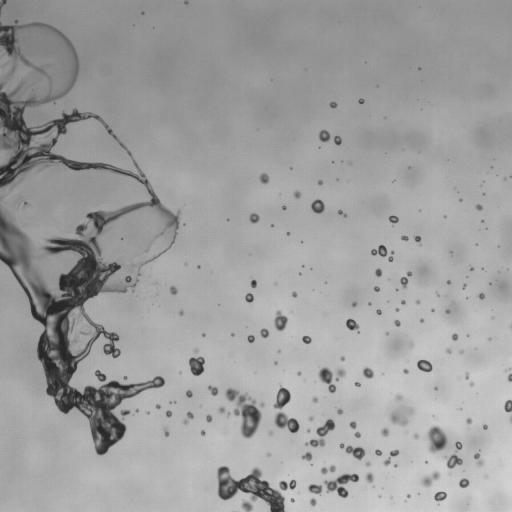droplet: (217, 387, 265, 438), (317, 366, 346, 393), (423, 425, 447, 453), (188, 356, 205, 375), (389, 411, 408, 426), (274, 310, 287, 331), (345, 318, 359, 333), (371, 244, 387, 257), (417, 359, 433, 372), (310, 199, 324, 213), (434, 491, 447, 505), (318, 129, 330, 142), (94, 369, 106, 382), (182, 411, 193, 425), (362, 366, 373, 378), (284, 195, 295, 206), (1, 199, 12, 210), (100, 202, 111, 213), (12, 217, 23, 228), (66, 229, 77, 240), (373, 255, 384, 266), (398, 287, 409, 298), (83, 297, 94, 308), (434, 299, 445, 310), (384, 310, 395, 321), (32, 321, 43, 332), (33, 360, 44, 371), (37, 377, 48, 388), (67, 377, 78, 388), (119, 398, 130, 409), (183, 398, 194, 409), (225, 399, 236, 410), (308, 403, 319, 414), (281, 404, 292, 415), (396, 406, 407, 417), (173, 408, 184, 419), (259, 412, 270, 423), (193, 413, 204, 424), (79, 417, 90, 428), (406, 421, 417, 432), (418, 424, 429, 435), (85, 439, 96, 450), (443, 443, 454, 454), (363, 449, 374, 460), (370, 462, 381, 473), (268, 479, 279, 490), (296, 480, 307, 491), (430, 480, 441, 491), (280, 488, 291, 499), (234, 489, 245, 500), (259, 172, 269, 184), (388, 215, 398, 227), (244, 292, 254, 304), (208, 385, 218, 396), (301, 451, 312, 461), (365, 471, 374, 483), (249, 213, 259, 223), (459, 478, 469, 488), (413, 235, 422, 246), (260, 502, 271, 511), (282, 502, 293, 511), (260, 328, 269, 338), (380, 427, 389, 437), (302, 335, 311, 344), (159, 197, 168, 206), (373, 276, 382, 285), (357, 299, 366, 308), (435, 306, 444, 315), (267, 324, 276, 333), (97, 335, 106, 344), (449, 340, 458, 349), (327, 363, 336, 372), (311, 371, 320, 380), (359, 375, 368, 384), (92, 379, 101, 388), (236, 385, 245, 394), (217, 387, 226, 396), (111, 407, 120, 416), (211, 411, 220, 420), (234, 414, 243, 423), (331, 414, 340, 423), (119, 415, 128, 424), (472, 419, 481, 428), (201, 421, 210, 430), (387, 422, 396, 431), (439, 423, 448, 432), (422, 438, 431, 447), (423, 467, 432, 476), (328, 471, 337, 480), (343, 480, 352, 489), (242, 491, 251, 500), (282, 500, 291, 509), (333, 135, 341, 145), (169, 285, 177, 295), (293, 190, 301, 199), (374, 268, 382, 277), (163, 426, 169, 437), (395, 393, 403, 401), (247, 334, 254, 343), (334, 407, 343, 414), (329, 101, 337, 108), (475, 204, 483, 211), (451, 333, 458, 341), (349, 421, 356, 429), (0, 44, 5, 55), (0, 67, 5, 78), (0, 155, 5, 166), (466, 417, 472, 426), (310, 497, 316, 506), (477, 292, 484, 299), (312, 396, 319, 403), (165, 410, 172, 417), (354, 431, 361, 438), (76, 72, 83, 79), (65, 108, 72, 115), (327, 137, 334, 144), (79, 168, 86, 175), (110, 171, 117, 178), (267, 175, 274, 182), (3, 183, 10, 190), (138, 183, 145, 190), (156, 193, 163, 200), (126, 198, 133, 205), (89, 205, 96, 212), (177, 216, 184, 223), (73, 233, 80, 240), (407, 235, 414, 242), (140, 265, 147, 272), (247, 286, 254, 293), (96, 291, 103, 298), (393, 312, 400, 319), (104, 325, 111, 332), (254, 333, 261, 340), (113, 340, 120, 347), (31, 341, 38, 348), (451, 347, 458, 354), (31, 349, 38, 356), (319, 361, 326, 368), (338, 361, 345, 368), (313, 367, 320, 374), (314, 375, 321, 382), (118, 378, 125, 385), (230, 383, 237, 390), (77, 386, 84, 393), (47, 395, 54, 402), (51, 404, 58, 411), (168, 404, 175, 411), (70, 406, 77, 413), (158, 407, 165, 414), (406, 414, 413, 421), (318, 419, 325, 426), (431, 419, 438, 426), (271, 423, 278, 430), (424, 423, 431, 430), (281, 425, 288, 432), (374, 428, 381, 435), (326, 429, 333, 436), (252, 430, 259, 437), (122, 431, 129, 438), (312, 433, 319, 440), (242, 436, 249, 443), (115, 439, 122, 446), (107, 445, 114, 452), (307, 445, 314, 452), (455, 450, 462, 457), (381, 451, 388, 458), (390, 455, 397, 462), (365, 465, 372, 472), (478, 465, 485, 472), (211, 468, 218, 475), (358, 473, 365, 480), (233, 474, 240, 481), (212, 481, 219, 488), (235, 488, 242, 495), (308, 491, 315, 498), (394, 319, 400, 327), (186, 389, 192, 397), (206, 414, 212, 422), (308, 506, 317, 511), (66, 223, 73, 229), (401, 235, 408, 241), (178, 309, 184, 316), (403, 367, 409, 374), (354, 381, 361, 387), (375, 449, 382, 455), (317, 179, 323, 185), (291, 291, 297, 297), (351, 301, 357, 307), (408, 341, 414, 347), (445, 348, 451, 354), (413, 433, 419, 439), (365, 460, 371, 466), (0, 125, 4, 134), (200, 429, 205, 436), (465, 371, 469, 379), (358, 98, 364, 103), (373, 286, 379, 291), (376, 309, 381, 315), (193, 348, 199, 353), (458, 349, 464, 354), (155, 404, 161, 409), (408, 407, 413, 413), (307, 416, 313, 421), (238, 507, 245, 511), (281, 205, 286, 210), (415, 299, 420, 304), (340, 356, 345, 361), (469, 381, 474, 386), (482, 424, 487, 429), (268, 430, 273, 435), (266, 452, 271, 457), (393, 462, 398, 467), (483, 474, 488, 479), (1, 4, 6, 9), (35, 17, 40, 22), (26, 18, 31, 23), (41, 18, 46, 23), (17, 20, 22, 25), (1, 21, 6, 26), (52, 22, 57, 27), (56, 25, 61, 30), (62, 30, 67, 35), (70, 39, 75, 44), (72, 42, 77, 47), (74, 47, 79, 52), (76, 52, 81, 57), (7, 63, 12, 68), (77, 68, 82, 73), (73, 81, 78, 86), (67, 89, 72, 94), (54, 98, 59, 103), (47, 100, 52, 105), (77, 108, 82, 113), (92, 109, 97, 114), (98, 112, 103, 117), (57, 114, 62, 119), (104, 118, 109, 123), (108, 124, 113, 129), (111, 128, 116, 133), (315, 128, 320, 133), (317, 139, 322, 144), (122, 140, 127, 145), (136, 160, 141, 165), (88, 167, 93, 172), (69, 168, 74, 173), (141, 168, 146, 173), (73, 169, 78, 174), (315, 175, 320, 180), (131, 177, 136, 182), (147, 177, 152, 182), (255, 177, 260, 182), (259, 182, 264, 187), (296, 186, 301, 191), (289, 193, 294, 198), (295, 197, 300, 202), (309, 197, 314, 202), (322, 200, 327, 205), (478, 200, 483, 205), (308, 208, 313, 213), (473, 208, 478, 213), (171, 209, 176, 214), (254, 209, 259, 214), (320, 210, 325, 215), (312, 211, 317, 216), (258, 215, 263, 220), (246, 219, 251, 224), (255, 220, 260, 225), (177, 222, 182, 227), (251, 222, 256, 227), (480, 222, 485, 227), (402, 230, 407, 235), (416, 231, 421, 236), (396, 233, 401, 238), (419, 238, 424, 243), (385, 246, 390, 251), (385, 251, 390, 256), (391, 253, 396, 258), (383, 255, 388, 260), (304, 264, 309, 269), (299, 267, 304, 272), (370, 270, 375, 275), (380, 271, 385, 276), (11, 276, 16, 281), (463, 278, 468, 283), (13, 279, 18, 284), (246, 279, 251, 284), (255, 281, 260, 286), (406, 281, 411, 286), (135, 282, 140, 287), (166, 282, 171, 287), (397, 283, 402, 288), (175, 285, 180, 290), (126, 286, 131, 291), (19, 288, 24, 293), (176, 288, 181, 293), (166, 290, 171, 295), (287, 290, 292, 295), (111, 291, 116, 296), (118, 291, 123, 296), (296, 291, 301, 296), (483, 291, 488, 296), (252, 294, 257, 299), (23, 295, 28, 300), (24, 298, 29, 303), (347, 299, 352, 304), (25, 303, 30, 308), (397, 303, 402, 308), (413, 303, 418, 308), (445, 304, 450, 309), (175, 306, 180, 311), (280, 311, 285, 316), (27, 312, 32, 317), (271, 313, 276, 318), (349, 314, 354, 319), (92, 318, 97, 323), (354, 318, 359, 323), (341, 321, 346, 326), (284, 322, 289, 327), (390, 322, 395, 327), (344, 326, 349, 331), (351, 328, 356, 333), (246, 330, 251, 335), (447, 335, 452, 340), (34, 336, 39, 341), (456, 336, 461, 341), (105, 338, 110, 343), (450, 339, 455, 344), (299, 340, 304, 345), (306, 342, 311, 347), (338, 351, 343, 356), (443, 352, 448, 357), (107, 353, 112, 358), (193, 353, 198, 358), (417, 355, 422, 360), (425, 356, 430, 361), (184, 357, 189, 362), (429, 359, 434, 364), (76, 362, 81, 367), (412, 363, 417, 368), (185, 364, 190, 369), (368, 364, 373, 369), (99, 368, 104, 373), (358, 369, 363, 374), (418, 369, 423, 374), (187, 370, 192, 375), (427, 370, 432, 375), (156, 371, 161, 376), (200, 371, 205, 376), (503, 372, 508, 377), (460, 373, 465, 378), (194, 374, 199, 379), (148, 375, 153, 380), (162, 375, 167, 380), (296, 375, 301, 380), (468, 375, 473, 380), (104, 378, 109, 383), (330, 378, 335, 383), (464, 379, 469, 384), (210, 382, 215, 387), (323, 382, 328, 387), (42, 383, 47, 388), (282, 383, 287, 388), (472, 384, 477, 389), (158, 385, 163, 390), (285, 385, 290, 390), (151, 386, 156, 391), (274, 386, 279, 391), (334, 388, 339, 393), (206, 389, 211, 394), (288, 389, 293, 394), (139, 390, 144, 395), (191, 390, 196, 395), (314, 392, 319, 397), (289, 393, 294, 398), (390, 393, 395, 398), (307, 397, 312, 402), (317, 397, 322, 402), (271, 398, 276, 403), (396, 399, 401, 404), (310, 401, 315, 406), (284, 402, 289, 407), (254, 403, 259, 408), (336, 403, 341, 408), (499, 403, 504, 408), (275, 407, 280, 412), (129, 408, 134, 413), (190, 409, 195, 414), (58, 410, 63, 415), (229, 411, 234, 416), (307, 411, 312, 416), (182, 413, 187, 418), (286, 414, 291, 419), (201, 416, 206, 421), (349, 416, 354, 421), (470, 416, 475, 421), (187, 417, 192, 422), (461, 417, 466, 422), (296, 418, 301, 423), (333, 420, 338, 425), (469, 422, 474, 427), (378, 424, 383, 429), (297, 426, 302, 431), (350, 428, 355, 433), (291, 431, 296, 436), (408, 431, 413, 436), (87, 433, 92, 438), (322, 434, 327, 439), (383, 435, 388, 440), (305, 437, 310, 442), (351, 443, 356, 448), (361, 444, 366, 449), (390, 446, 395, 451), (340, 447, 345, 452), (91, 448, 96, 453), (472, 448, 477, 453), (300, 450, 305, 455), (102, 452, 107, 457), (348, 452, 353, 457), (478, 454, 483, 459), (361, 455, 366, 460), (352, 456, 357, 461), (302, 458, 307, 463), (309, 458, 314, 463), (442, 458, 447, 463), (330, 460, 335, 465), (220, 461, 225, 466), (319, 462, 324, 467), (388, 462, 393, 467), (482, 462, 487, 467), (324, 463, 329, 468), (442, 463, 447, 468), (454, 463, 459, 468), (347, 470, 352, 475), (371, 472, 376, 477), (241, 473, 246, 478), (464, 474, 469, 479), (258, 475, 263, 480), (285, 478, 290, 483), (454, 479, 459, 484), (306, 480, 311, 485), (314, 480, 319, 485), (367, 482, 372, 487), (321, 484, 326, 489), (464, 485, 469, 490), (458, 486, 463, 491), (332, 489, 337, 494), (377, 489, 382, 494), (445, 490, 450, 495), (346, 493, 351, 498), (337, 495, 342, 500), (218, 497, 223, 502), (305, 499, 310, 504), (439, 499, 444, 504), (462, 283, 466, 289), (435, 291, 439, 297), (401, 299, 405, 305), (0, 259, 3, 266), (469, 267, 474, 271), (446, 280, 451, 284), (445, 309, 450, 313), (419, 318, 424, 322), (296, 371, 301, 375), (122, 376, 127, 380), (306, 428, 310, 433), (406, 494, 411, 498), (184, 0, 188, 4), (197, 264, 201, 268), (395, 307, 399, 311), (430, 308, 434, 312), (385, 331, 389, 335), (201, 333, 205, 337), (230, 332, 234, 336), (487, 337, 491, 341), (277, 349, 281, 353), (178, 370, 182, 374), (135, 408, 139, 412), (389, 495, 393, 499), (290, 498, 294, 502), (457, 407, 462, 410), (145, 411, 150, 414), (508, 362, 511, 367), (508, 380, 511, 385), (289, 166, 292, 170), (503, 176, 506, 180), (459, 198, 462, 202), (443, 214, 446, 218), (480, 219, 484, 222), (270, 224, 274, 227), (286, 232, 290, 235), (368, 301, 371, 305), (466, 333, 469, 337), (274, 361, 277, 365), (434, 386, 437, 390), (432, 414, 435, 418), (5, 0, 10, 2), (179, 0, 184, 2), (187, 0, 192, 2), (141, 11, 144, 14), (418, 67, 421, 70), (331, 160, 334, 163), (408, 166, 411, 169), (392, 179, 395, 182), (482, 192, 485, 195), (418, 209, 421, 212), (226, 218, 229, 221), (183, 223, 186, 226), (300, 240, 303, 243), (184, 262, 187, 265), (301, 264, 304, 267), (298, 272, 301, 275), (324, 281, 327, 284), (395, 288, 398, 291), (491, 316, 494, 319), (425, 460, 428, 463), (310, 463, 313, 466), (417, 492, 420, 495), (378, 495, 381, 498), (183, 3, 186, 6), (186, 3, 189, 6), (141, 8, 144, 11), (138, 9, 141, 12), (143, 12, 146, 15), (140, 14, 143, 17), (419, 64, 422, 67), (417, 69, 420, 72), (360, 95, 363, 98), (356, 96, 359, 99), (335, 100, 338, 103), (359, 103, 362, 106), (327, 105, 330, 108), (331, 107, 334, 110), (96, 112, 99, 115), (116, 135, 119, 138), (340, 139, 343, 142), (336, 144, 339, 147), (127, 147, 130, 150), (315, 147, 318, 150), (130, 151, 133, 154), (331, 157, 334, 160), (328, 160, 331, 163), (331, 162, 334, 165), (138, 165, 141, 168), (292, 166, 295, 169), (287, 168, 290, 171), (335, 174, 338, 177), (128, 175, 131, 178), (506, 176, 509, 179), (332, 177, 335, 180), (390, 177, 393, 180), (338, 178, 341, 181), (322, 180, 325, 183), (393, 180, 396, 183), (479, 180, 482, 183), (314, 181, 317, 184), (482, 182, 485, 185), (318, 184, 321, 187), (482, 189, 485, 192), (484, 193, 487, 196), (459, 195, 462, 198), (26, 199, 29, 202), (461, 199, 464, 202), (456, 200, 459, 203), (0, 201, 3, 204), (20, 201, 23, 204), (281, 202, 284, 205), (285, 206, 288, 209), (279, 207, 282, 210), (282, 209, 285, 212), (334, 209, 337, 212), (342, 210, 345, 213), (392, 212, 395, 215), (346, 213, 349, 216), (227, 215, 230, 218), (440, 215, 443, 218), (446, 215, 449, 218), (478, 217, 481, 220), (223, 218, 226, 221), (483, 218, 486, 221), (228, 219, 231, 222), (270, 220, 273, 223), (270, 226, 273, 229), (487, 226, 490, 229), (286, 228, 289, 231), (289, 231, 292, 234), (283, 232, 286, 235), (175, 234, 178, 237), (174, 237, 177, 240), (300, 237, 303, 240), (401, 239, 404, 242), (476, 240, 479, 243), (297, 241, 300, 244), (302, 241, 305, 244), (415, 241, 418, 244), (171, 243, 174, 246), (474, 245, 477, 248), (368, 248, 371, 251), (166, 249, 169, 252), (393, 250, 396, 253), (163, 251, 166, 254), (368, 251, 371, 254), (448, 252, 451, 255), (451, 252, 454, 255), (160, 253, 163, 256), (147, 261, 150, 264), (197, 261, 200, 264), (300, 261, 303, 264), (388, 261, 391, 264), (479, 264, 482, 267), (467, 265, 470, 268), (194, 266, 197, 269), (199, 266, 202, 269), (483, 267, 486, 270), (408, 268, 411, 271), (308, 269, 311, 272), (470, 270, 473, 273), (411, 271, 414, 274), (295, 272, 298, 275), (137, 275, 140, 278), (450, 279, 453, 282), (491, 281, 494, 284), (444, 282, 447, 285), (485, 282, 488, 285), (375, 283, 378, 286), (447, 283, 450, 286), (460, 283, 463, 286), (488, 284, 491, 287), (464, 286, 467, 289), (379, 287, 382, 290), (292, 288, 295, 291), (392, 288, 395, 291), (373, 290, 376, 293), (377, 290, 380, 293), (395, 290, 398, 293), (437, 290, 440, 293), (477, 290, 480, 293), (243, 292, 246, 295), (433, 293, 436, 296), (466, 293, 469, 296), (439, 294, 442, 297), (155, 295, 158, 298), (462, 295, 465, 298), (292, 296, 295, 299), (476, 296, 479, 299), (242, 297, 245, 300), (413, 297, 416, 300), (467, 297, 470, 300), (482, 297, 485, 300), (252, 298, 255, 301), (419, 299, 422, 302), (216, 300, 219, 303), (370, 300, 373, 303), (404, 300, 407, 303), (246, 301, 249, 304), (249, 301, 252, 304), (364, 301, 367, 304), (354, 305, 357, 308), (431, 305, 434, 308), (376, 306, 379, 309), (276, 307, 279, 310), (392, 308, 395, 311), (182, 309, 185, 312), (380, 309, 383, 312), (373, 311, 376, 314), (431, 311, 434, 314), (380, 312, 383, 315), (444, 312, 447, 315), (377, 314, 380, 317), (180, 315, 183, 318), (421, 315, 424, 318), (397, 317, 400, 320), (417, 317, 420, 320), (423, 319, 426, 322), (399, 321, 402, 324), (357, 327, 360, 330), (200, 330, 203, 333), (203, 330, 206, 333), (232, 330, 235, 333), (116, 332, 119, 335), (227, 332, 230, 335), (304, 332, 307, 335), (388, 332, 391, 335), (468, 332, 471, 335), (198, 333, 201, 336), (229, 335, 232, 338), (266, 335, 269, 338), (118, 336, 121, 339), (202, 336, 205, 339), (467, 336, 470, 339), (244, 337, 247, 340), (299, 338, 302, 341), (275, 347, 278, 350), (100, 348, 103, 351), (442, 348, 445, 351), (89, 349, 92, 352), (119, 352, 122, 355), (460, 353, 463, 356), (117, 355, 120, 358), (337, 356, 340, 359), (344, 356, 347, 359), (203, 357, 206, 360), (273, 357, 276, 360), (277, 360, 280, 363), (271, 362, 274, 365), (505, 366, 508, 369), (92, 368, 95, 371), (296, 368, 299, 371), (383, 371, 386, 374), (123, 372, 126, 375), (300, 372, 303, 375), (402, 372, 405, 375), (338, 377, 341, 380), (351, 382, 354, 385), (205, 383, 208, 386), (431, 384, 434, 387), (354, 385, 357, 388), (436, 385, 439, 388), (433, 389, 436, 392), (183, 393, 186, 396), (188, 396, 191, 399), (170, 398, 173, 401), (157, 401, 160, 404), (171, 402, 174, 405), (152, 404, 155, 407), (458, 404, 461, 407), (340, 406, 343, 409), (154, 407, 157, 410), (138, 408, 141, 411), (145, 408, 148, 411), (457, 409, 460, 412), (144, 413, 147, 416), (170, 414, 173, 417), (181, 423, 184, 426), (479, 424, 482, 427), (480, 427, 483, 430), (486, 427, 489, 430), (161, 431, 164, 434), (168, 431, 171, 434), (197, 431, 200, 434), (204, 431, 207, 434), (201, 435, 204, 438), (359, 435, 362, 438), (457, 438, 460, 441), (337, 441, 340, 444), (461, 443, 464, 446), (378, 447, 381, 450), (398, 449, 401, 452), (372, 450, 375, 453), (478, 451, 481, 454), (298, 455, 301, 458), (425, 457, 428, 460), (421, 459, 424, 462), (427, 460, 430, 463), (424, 463, 427, 466), (394, 466, 397, 469), (468, 480, 471, 483), (456, 483, 459, 486), (293, 486, 296, 489), (441, 488, 444, 491), (433, 490, 436, 493), (408, 491, 411, 494), (380, 495, 383, 498), (375, 496, 378, 499), (404, 496, 407, 499), (293, 497, 296, 500), (292, 501, 295, 504), (509, 174, 511, 178), (336, 178, 338, 181), (475, 243, 478, 245), (450, 251, 452, 254), (310, 267, 312, 270), (481, 267, 483, 270), (489, 282, 491, 285), (221, 431, 224, 433), (404, 500, 407, 502), (509, 397, 511, 400), (376, 85, 378, 87), (318, 146, 320, 148), (341, 160, 343, 162), (490, 166, 492, 168), (482, 180, 484, 182), (485, 227, 487, 229), (497, 245, 499, 247), (466, 297, 468, 299), (387, 300, 389, 302), (199, 405, 201, 407), (372, 485, 374, 487), (507, 268, 508, 270), (466, 276, 467, 278), (312, 288, 313, 290), (217, 304, 219, 305)
ligament: (272, 382, 299, 433), (308, 473, 359, 498), (304, 418, 335, 447), (338, 442, 365, 460), (420, 470, 440, 487), (382, 449, 399, 466), (400, 271, 412, 289), (503, 399, 511, 424), (473, 449, 484, 467), (320, 465, 336, 474), (0, 0, 6, 16), (387, 250, 394, 262), (337, 209, 347, 217), (250, 276, 256, 288), (507, 373, 511, 382), (504, 367, 511, 372), (169, 400, 176, 404), (447, 470, 451, 475), (509, 323, 511, 331), (152, 282, 157, 284), (233, 510, 239, 511)
